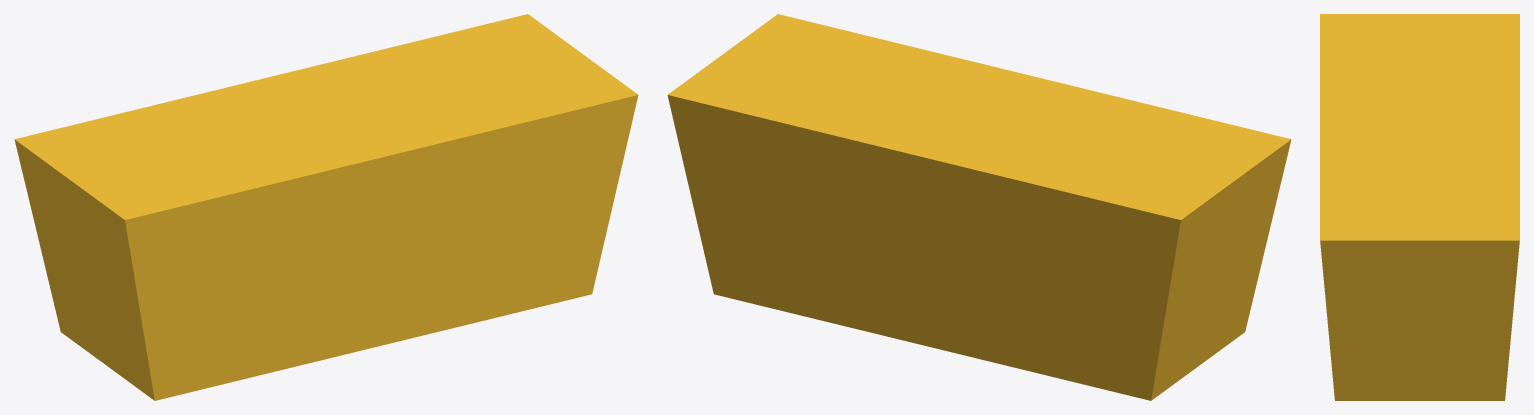
File: goldBar.fbx
3 views of the same model, side by side, from view 1: azimuth 30°, elevation 25°; view 2: azimuth 150°, elevation 25°; view 3: azimuth 270°, elevation 25° (orthographic). The views are drawn at different scales.
Visible parts, largest first — view 1: Cube; view 2: Cube; view 3: Cube.
Part boxes in pixels (bbox=[...]): Cube: bbox=[14, 14, 638, 400]; Cube: bbox=[667, 14, 1291, 400]; Cube: bbox=[1320, 14, 1519, 400].
Bounding box in the file's own units: 537 × 196 × 200.
